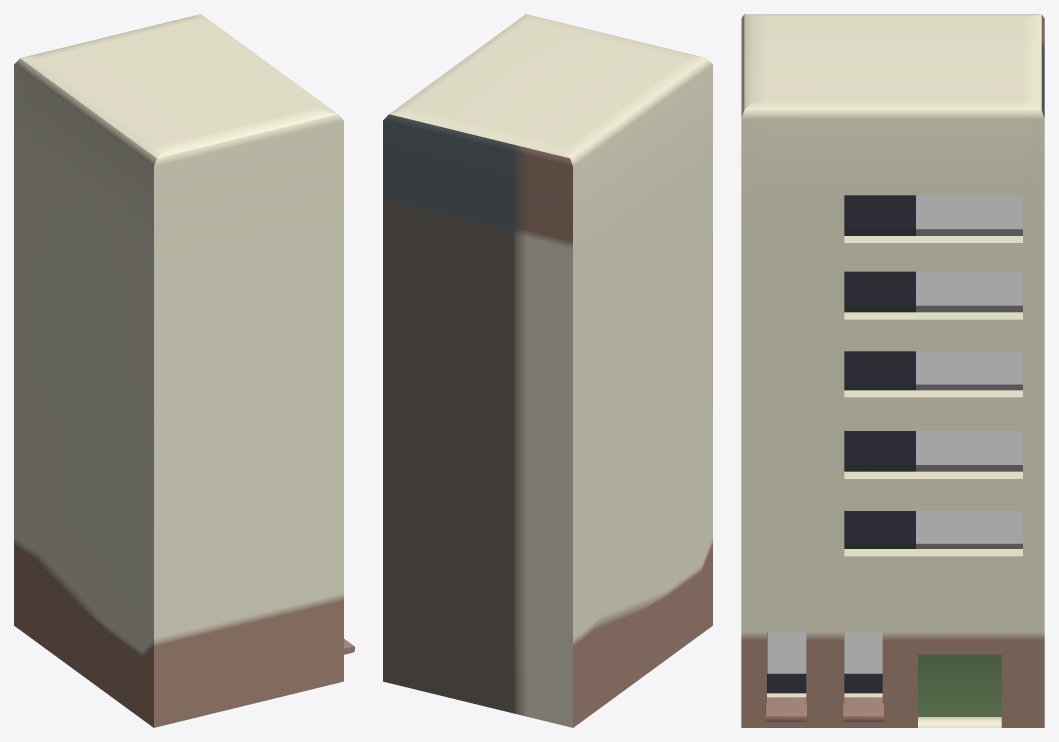
File: BuildingTall_03B.fbx
3 views of the same model, side by side, from view 1: azimuth 30°, elevation 25°; view 2: azimuth 150°, elevation 25°; view 3: azimuth 270°, elevation 25° (orthographic). The views are drawn at different scales.
Parts seen in each view (by area): view 1: polySurface1079; view 2: polySurface1079; view 3: polySurface1079.
Boxes of the visible parts, bbox=[...] form: polySurface1079: bbox=[14, 14, 354, 727]; polySurface1079: bbox=[383, 14, 712, 727]; polySurface1079: bbox=[741, 14, 1044, 727].
Bounding box in the file's own units: 4.57 × 11.7 × 5.2.
